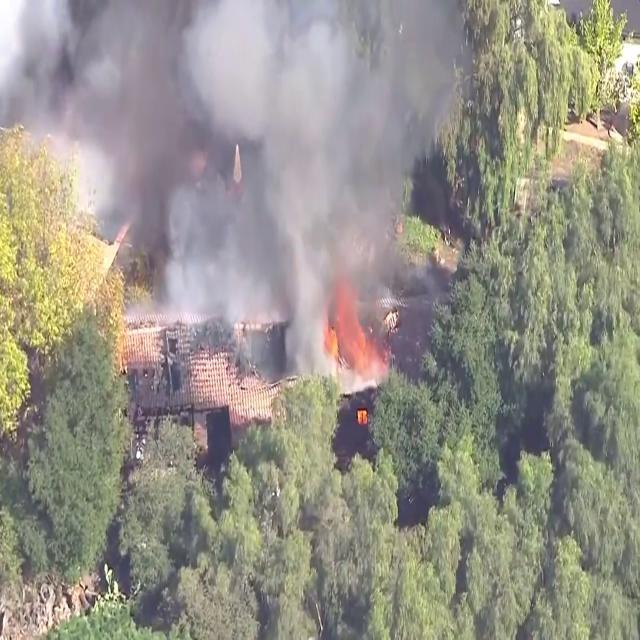Smoke: (5, 0, 412, 367)
